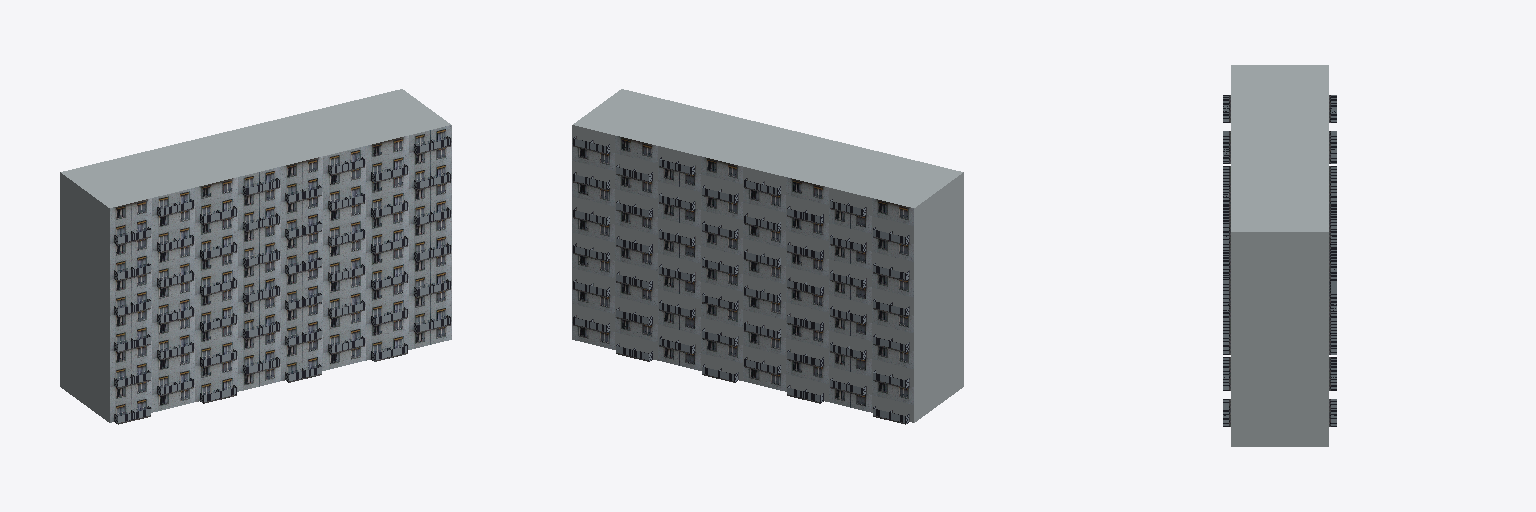
3 renders of one model, left to right at view 1: azimuth 30°, elevation 25°; view 2: azimuth 150°, elevation 25°; view 3: azimuth 270°, elevation 25°, orthographic.
Visible parts, largest first — view 1: Building; view 2: Building; view 3: Building.
Boxes of the visible parts, x1=… form: Building: x1=60, y1=89, x2=451, y2=424; Building: x1=572, y1=89, x2=963, y2=424; Building: x1=1223, y1=65, x2=1336, y2=446.
Size of the model in its own units: 8 by 4.8 by 2.3.
Materials: 2 (1 with a texture image).